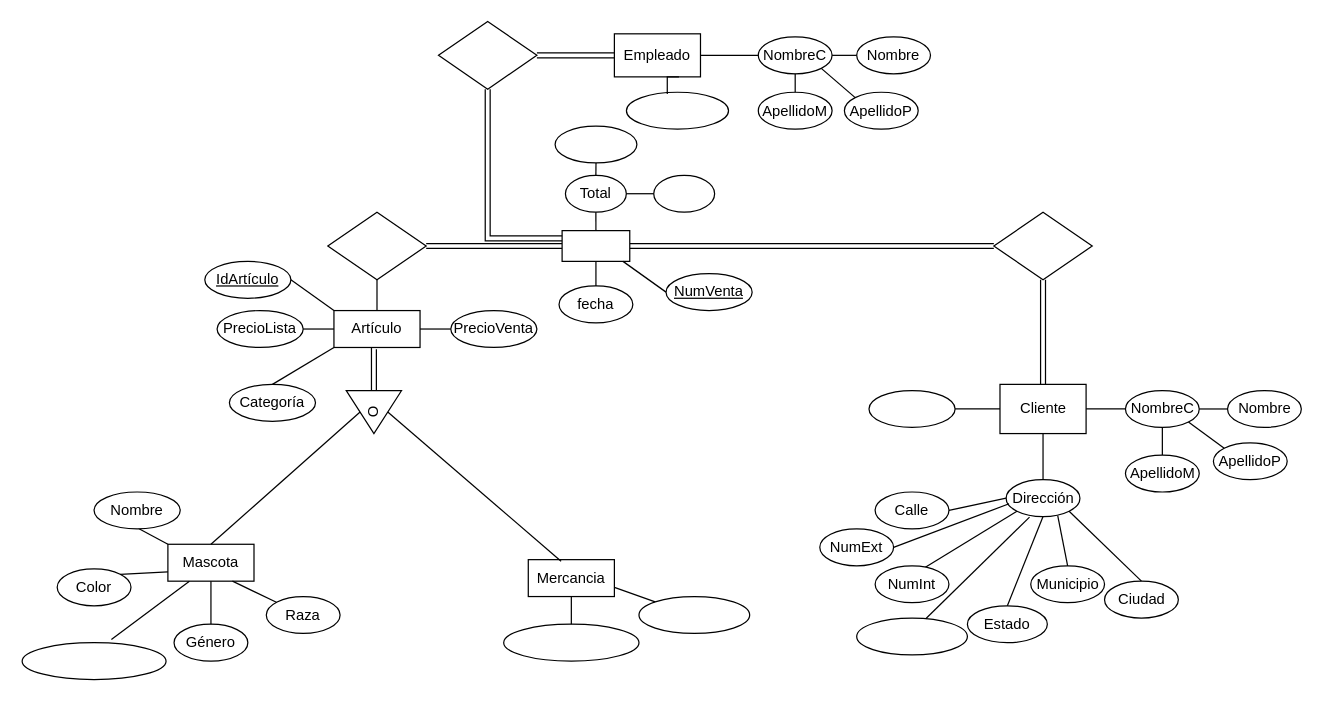
Some shapes in this 1322 by 701 pixel diagram are drawn without their labels. Each missing label, with the centre of its shape:
"Adquirir" belongs at pixel 1042 245.
"CódigoPostal" belongs at pixel 911 636.
"Descripción" belongs at pixel 694 614.
"FechaNacimiento" belongs at pixel 93 660.
"IdCliente" belongs at pixel 911 408.
"IdEmpleado" belongs at pixel 677 110.
"IVA" belongs at pixel 684 193.
"Realizar" belongs at pixel 487 54.
"SubTotal" belongs at pixel 595 144.
"TotalProductos" belongs at pixel 570 642.
"Vender" belongs at pixel 376 245.
"Venta" belongs at pixel 595 245.
